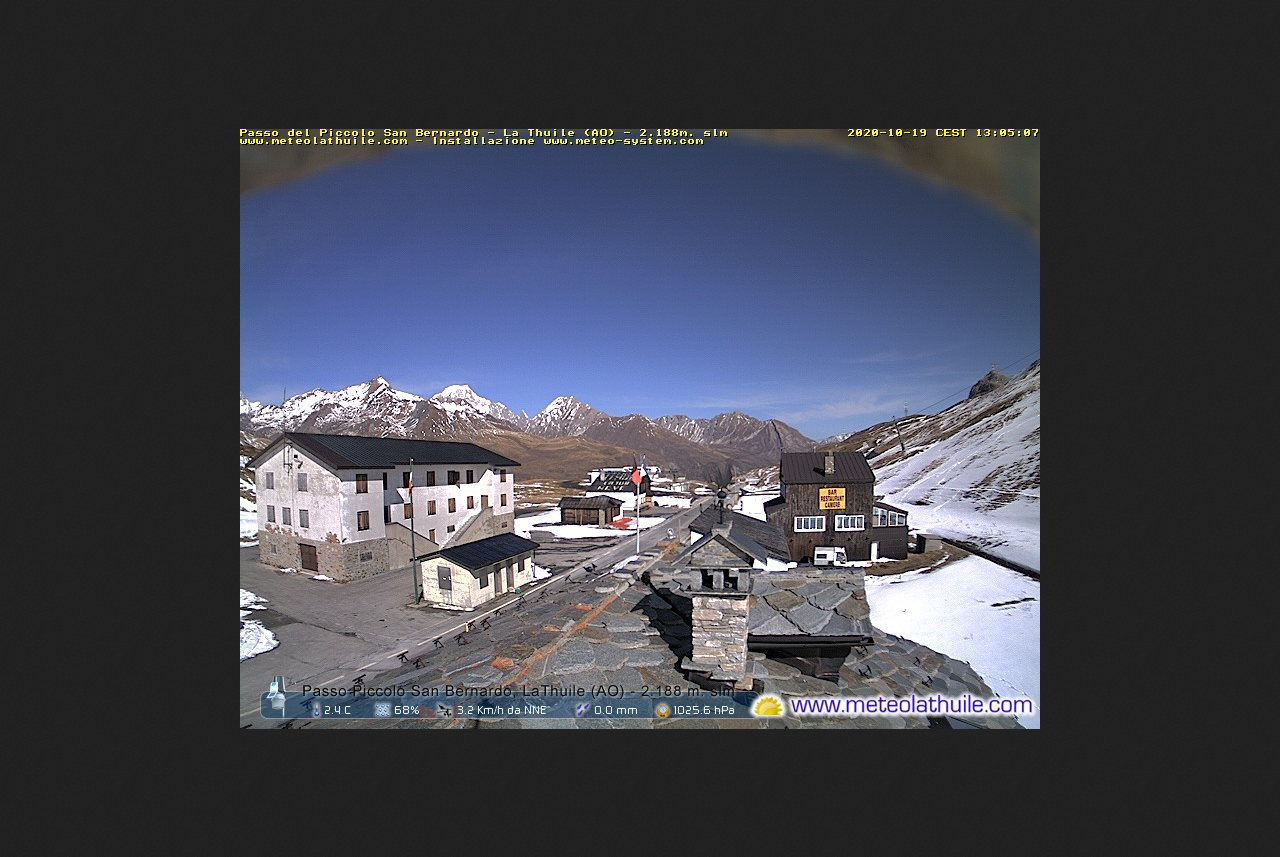maybe: (638, 461, 654, 490), (627, 461, 641, 487)
no: (401, 465, 416, 495)
